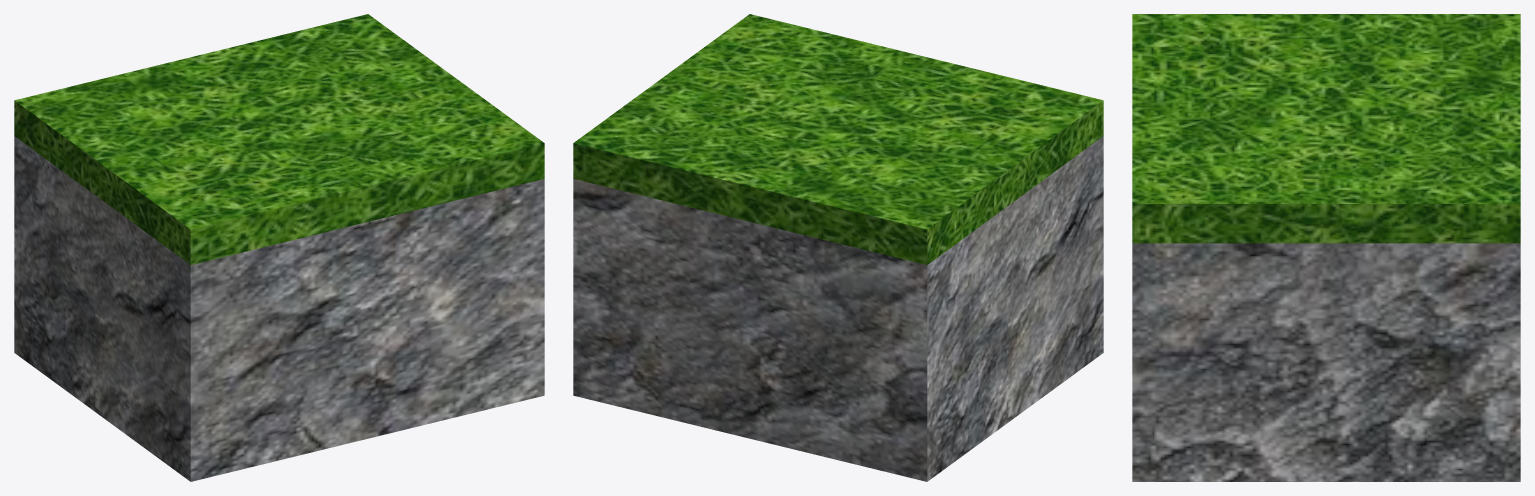
File: block.fbx
The picture shows the model from 3 angles, left to right: view 1: azimuth 30°, elevation 25°; view 2: azimuth 150°, elevation 25°; view 3: azimuth 270°, elevation 25°; orthographic projection. The views are drawn at different scales.
Visible parts, largest first — view 1: pCube1; view 2: pCube1; view 3: pCube1.
Part boxes in pixels (left/top/right/bottom): pCube1: left=14, top=14, right=544, bottom=481; pCube1: left=573, top=14, right=1103, bottom=481; pCube1: left=1132, top=14, right=1520, bottom=481.
Size of the model in its own units: 6.71 by 4.57 by 5.79.
3 materials, 2 textured.
